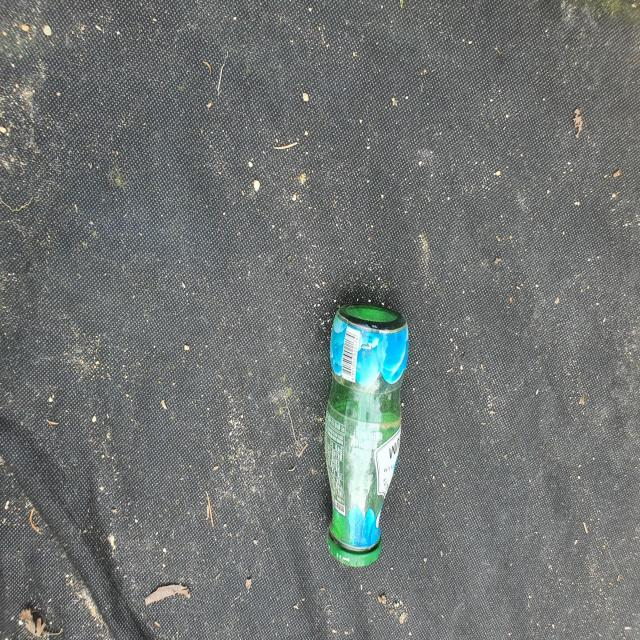glass: (325, 304, 409, 567)
